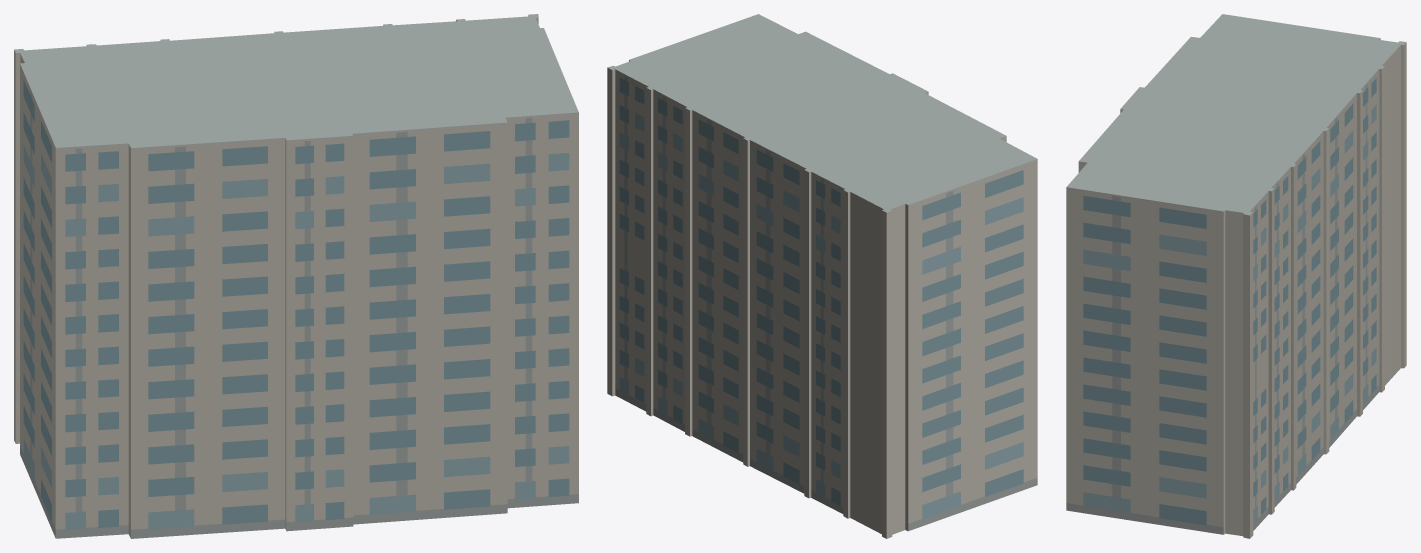
Rendered from survey-upis-32507199.glb.
3 renders of one model, left to right at view 1: azimuth 30°, elevation 25°; view 2: azimuth 150°, elevation 25°; view 3: azimuth 270°, elevation 25°, orthographic. The views are drawn at different scales.
Parts seen in each view (by area): view 1: survey-upis-32507199.tmp; view 2: survey-upis-32507199.tmp; view 3: survey-upis-32507199.tmp.
Part boxes in pixels (x1,y1,x2,y2): survey-upis-32507199.tmp: [14, 14, 578, 538]; survey-upis-32507199.tmp: [607, 14, 1037, 538]; survey-upis-32507199.tmp: [1066, 14, 1406, 538].
Bounding box in the file's own units: 61.22 × 45.8 × 43.67.
